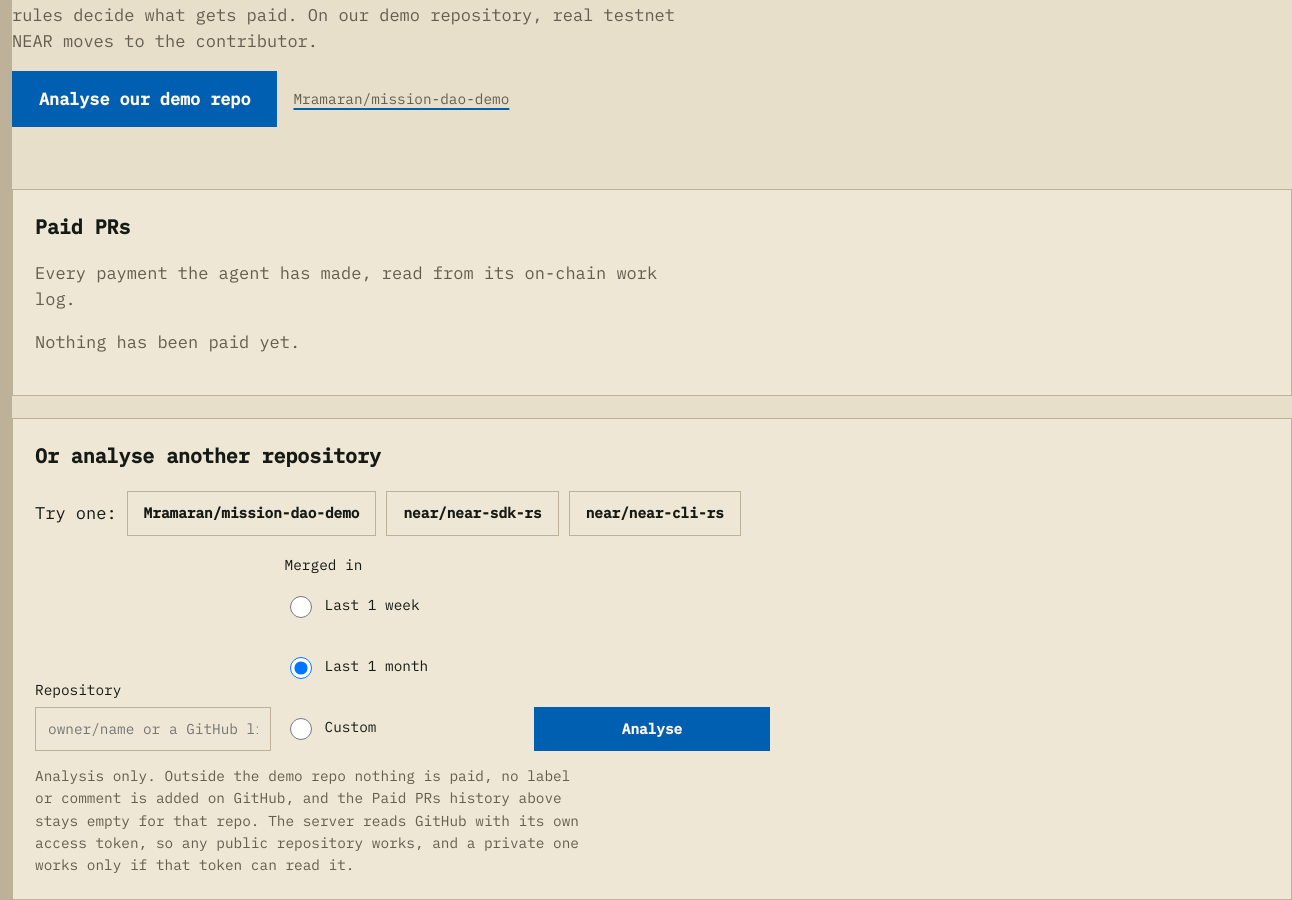
Test case: AnalyseRepo › pays ready rows in order, then refreshes the analysis
(page scrolled)
Type "o/r" into the field labelled "Repository" at {"x": 153, "y": 729}, box [35,707,271,751]
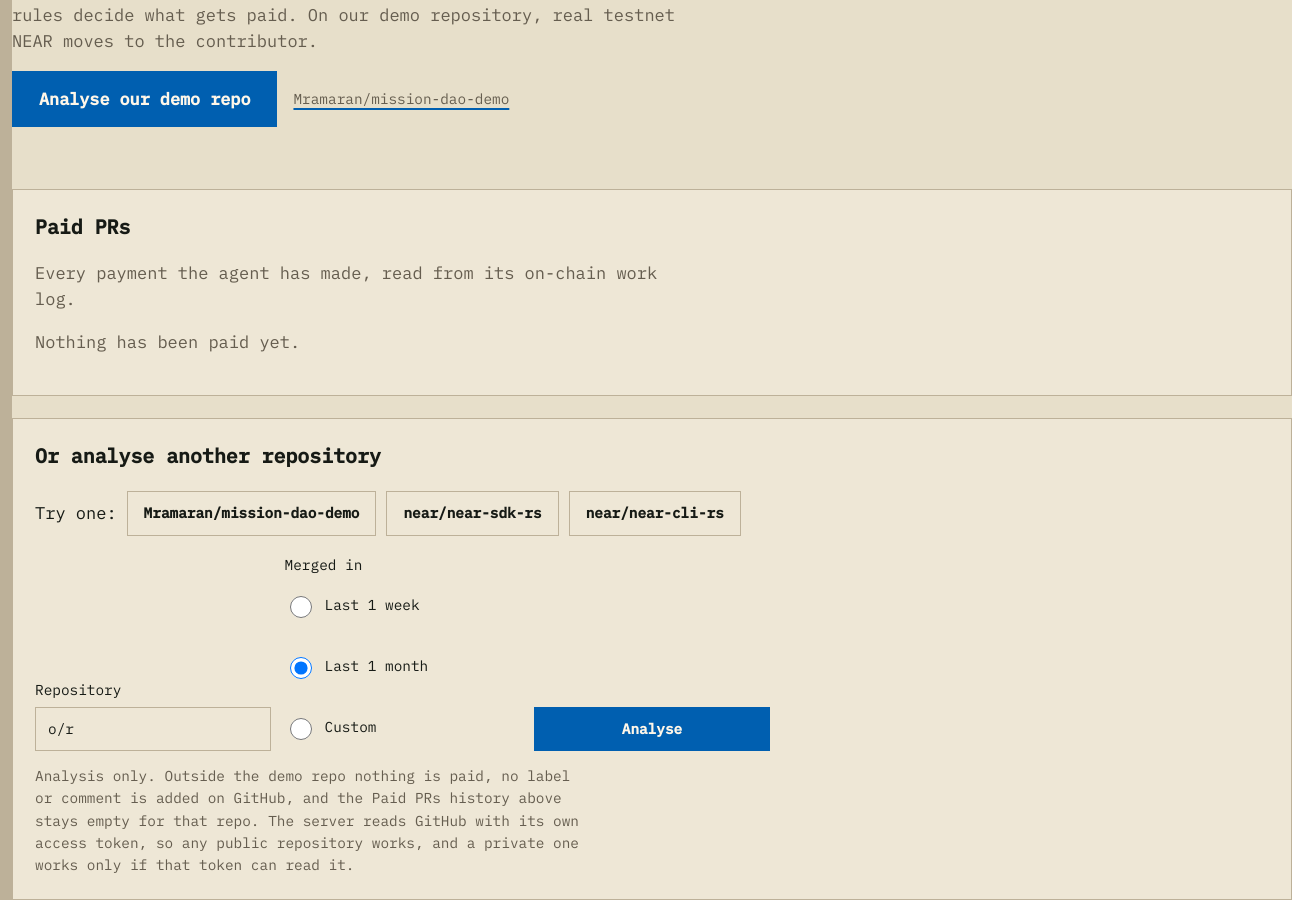
Click the button "Analyse" at {"x": 652, "y": 729}, box [534,707,770,751]
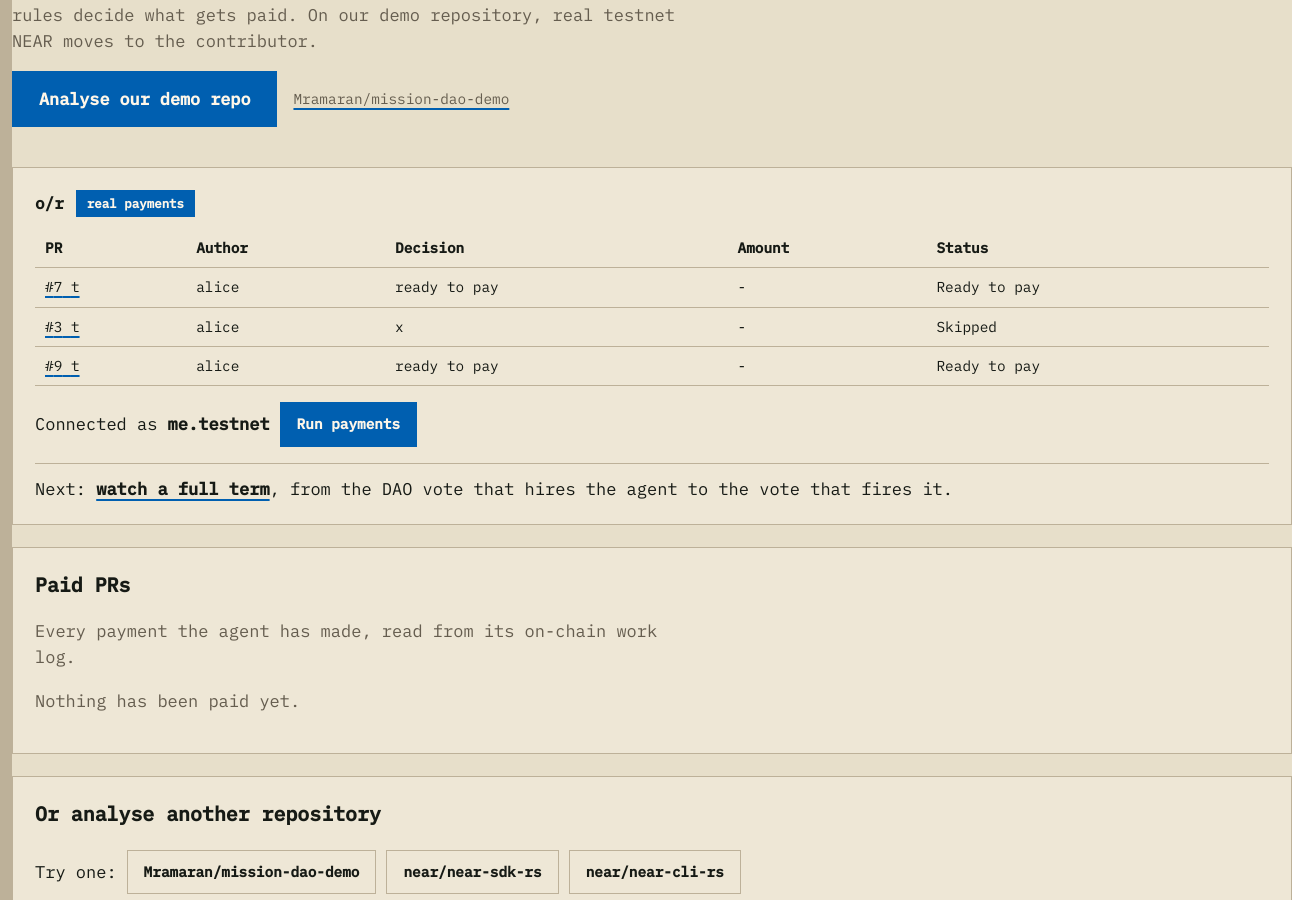
Click the button "Run payments" at {"x": 348, "y": 425}, box [280,402,417,447]
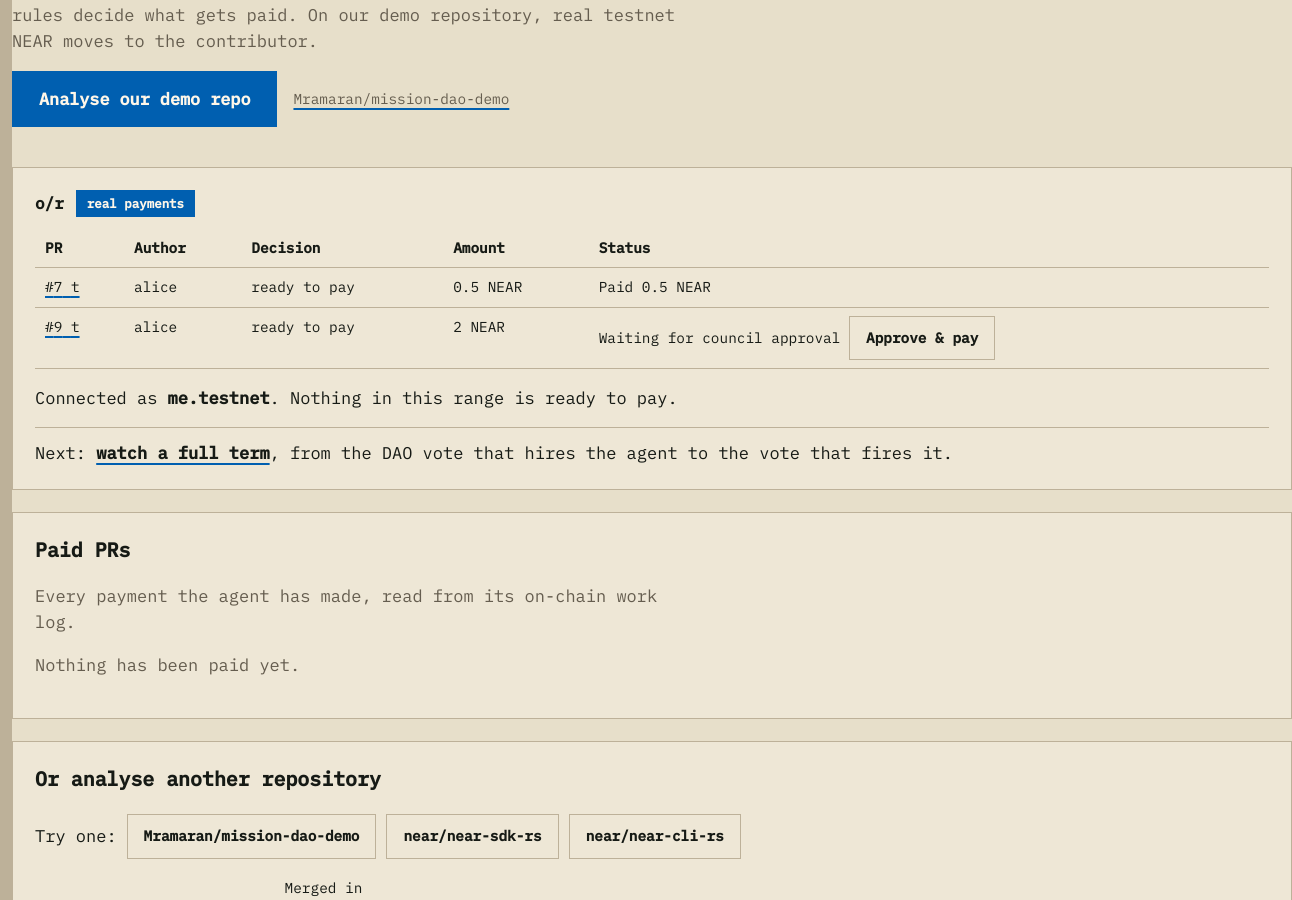
expect the text "Waiting for council approval" is shown: met, box [599,328,840,347]
